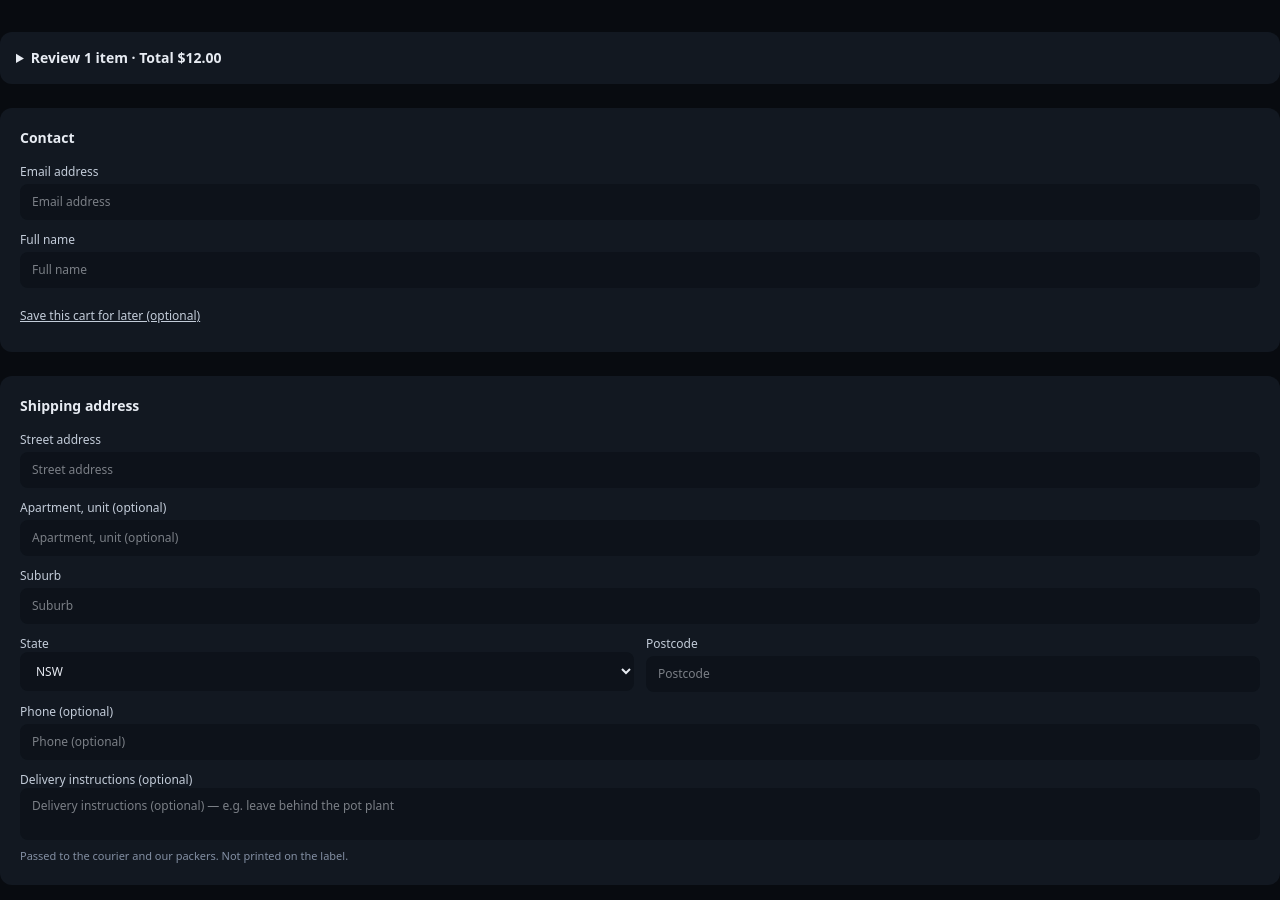
it: keeps optional cart recovery collapsed after the core contact details
Expected: the checkbox labelled "cart link" is not shown
Click the button "Save this cart for later (optional)" at (110, 316), box [20,300,200,332]
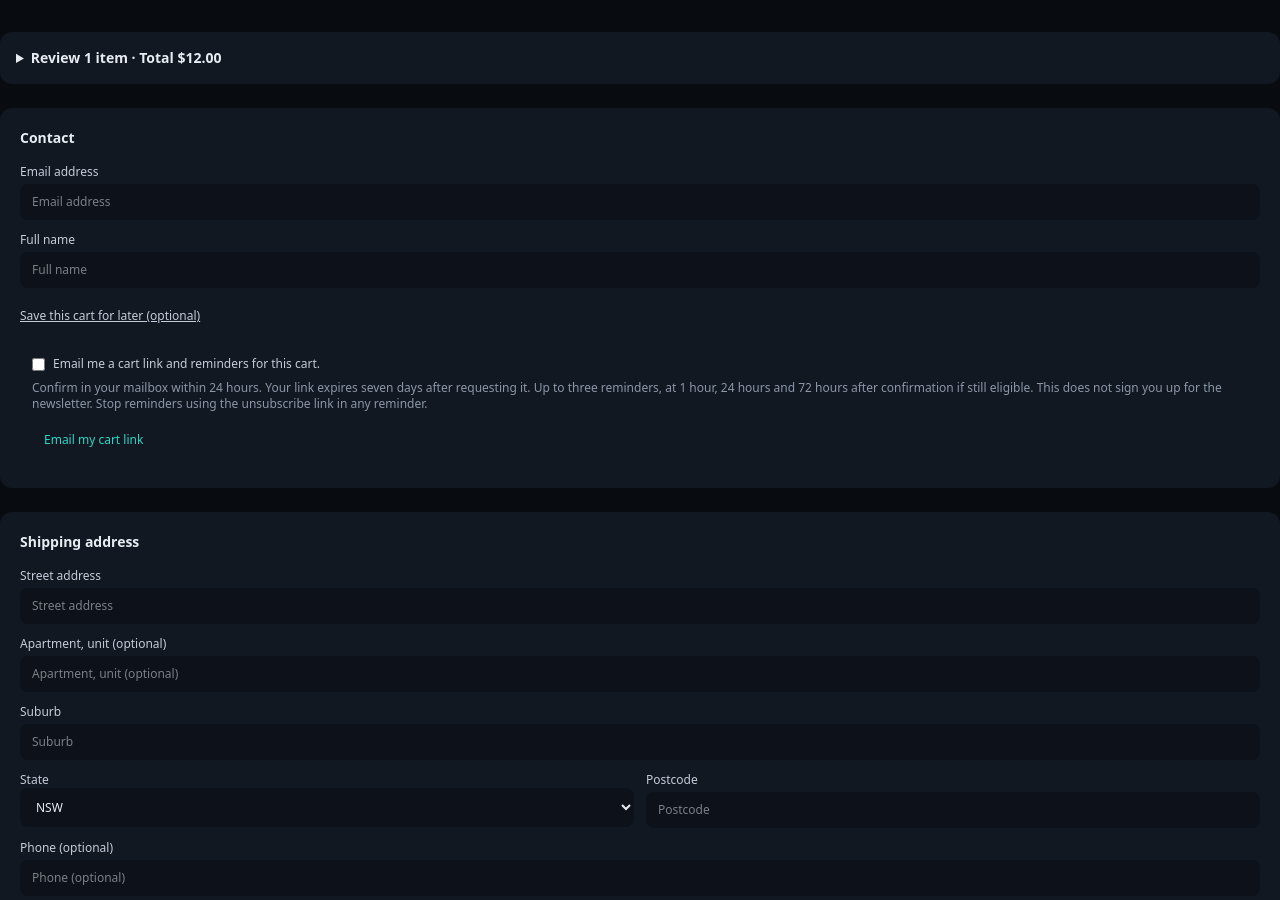
Expected: the checkbox labelled "Email me a cart link and reminders for this cart." is not checked, [32,358,45,371]
